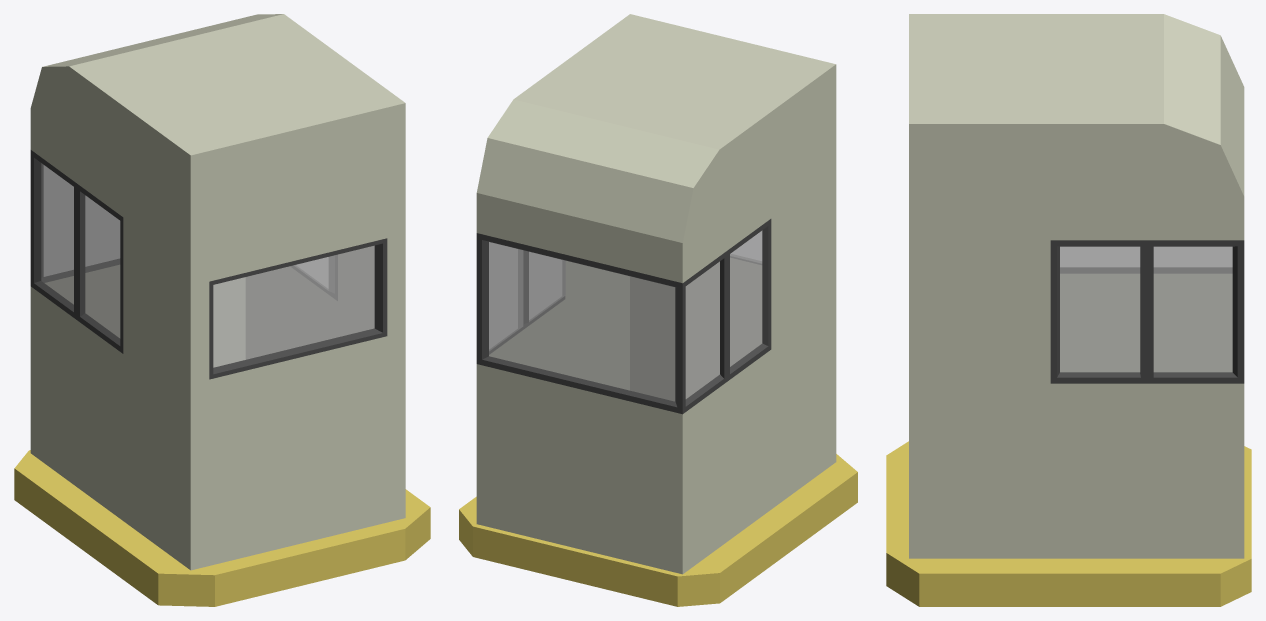
Rendered from Cranecabin.fbx.
3 renders of one model, left to right at view 1: azimuth 30°, elevation 25°; view 2: azimuth 150°, elevation 25°; view 3: azimuth 270°, elevation 25°, orthographic. The views are drawn at different scales.
Visible parts, largest first — view 1: Crane_Cylinder.007, Cube.004; view 2: Crane_Cylinder.007, Cube.004; view 3: Crane_Cylinder.007, Cube.004.
Part boxes in pixels (<box>): Crane_Cylinder.007: <box>30,14,405,570</box>; Cube.004: <box>14,450,430,606</box>; Crane_Cylinder.007: <box>476,14,836,574</box>; Cube.004: <box>459,454,857,606</box>; Crane_Cylinder.007: <box>909,14,1244,558</box>; Cube.004: <box>886,441,1251,606</box>.
Bounding box in the file's own units: 131 × 205 × 145.
